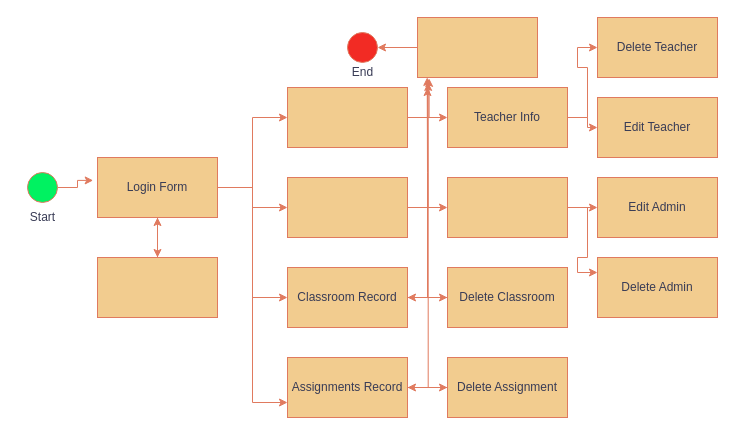
The diagram is 735 pixels wide and 435 high, and some of its shapes have lost their labels. The shapes that lost their labels are listed below. From the top down, each one's centre as x and y in pixels, then its label:
point (477, 47): Logout
point (347, 117): Teacher Record
point (347, 207): Admin Record
point (507, 207): Admin Info
point (157, 287): Register Form
